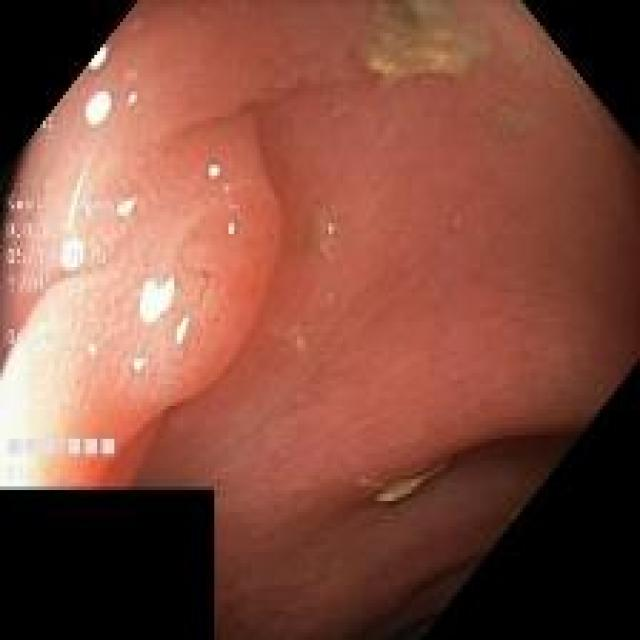Polyps: (1, 120, 282, 486)
